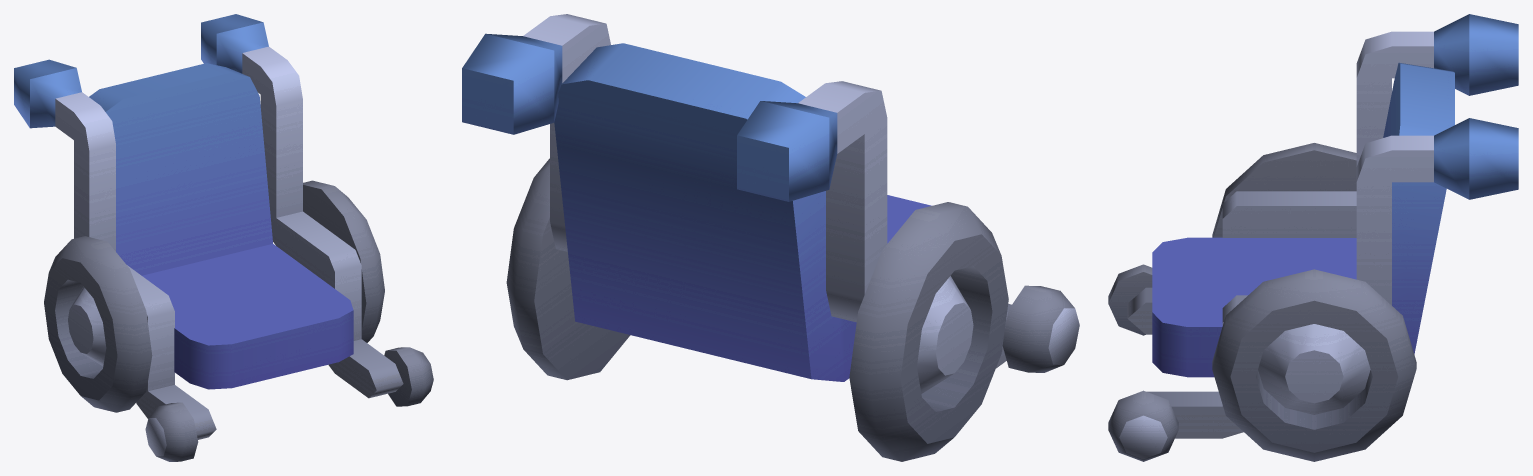
Rendered from wheelchair.glb.
3 views of the same model, side by side, from view 1: azimuth 30°, elevation 25°; view 2: azimuth 150°, elevation 25°; view 3: azimuth 270°, elevation 25° (orthographic). The views are drawn at different scales.
Parts seen in each view (by area): view 1: wheelchair; view 2: wheelchair; view 3: wheelchair.
Part boxes in pixels (x1=…): wheelchair: x1=14, y1=14, x2=433, y2=461; wheelchair: x1=462, y1=14, x2=1079, y2=461; wheelchair: x1=1108, y1=14, x2=1518, y2=461.
Bounding box in the file's own units: 0.5 × 0.495 × 0.5824.
Materials: 1 (1 with a texture image).
